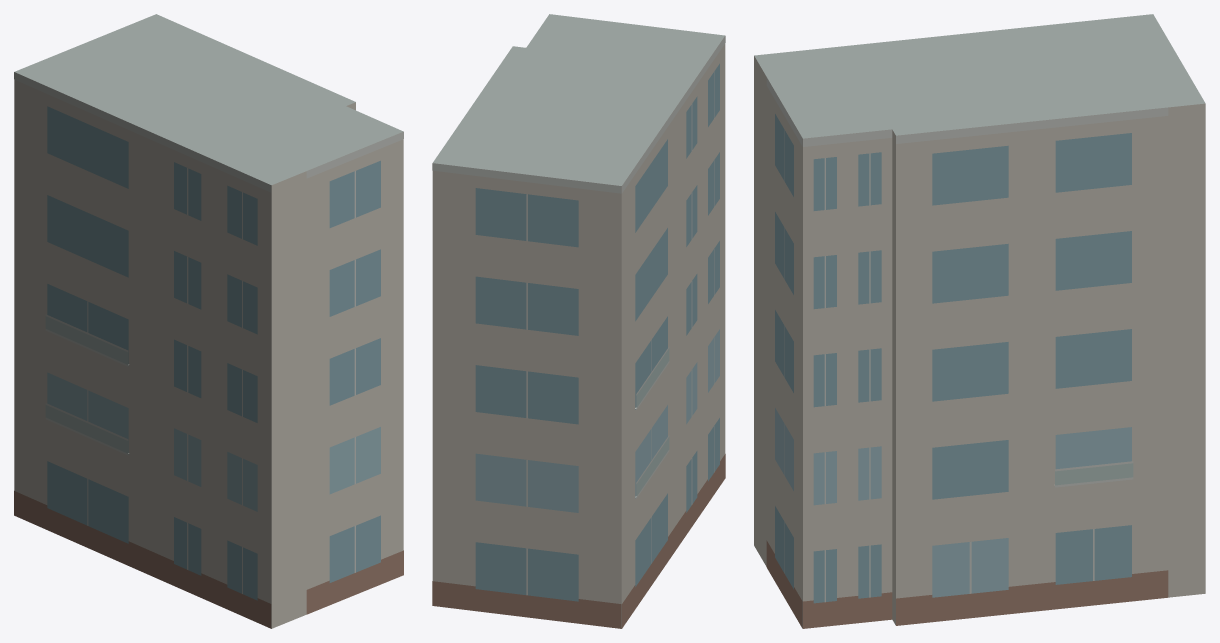
The model's file is survey-upis-32570189.glb.
3 renders of one model, left to right at view 1: azimuth 30°, elevation 25°; view 2: azimuth 150°, elevation 25°; view 3: azimuth 270°, elevation 25°, orthographic. The views are drawn at different scales.
Parts seen in each view (by area): view 1: survey-upis-32570189.tmp; view 2: survey-upis-32570189.tmp; view 3: survey-upis-32570189.tmp.
Boxes of the visible parts, x1,y1,x2,y2 form: survey-upis-32570189.tmp: (14, 14, 403, 628); survey-upis-32570189.tmp: (432, 14, 725, 628); survey-upis-32570189.tmp: (754, 14, 1205, 628).
Size of the model in its own units: 7.78 by 14.25 by 11.9.
